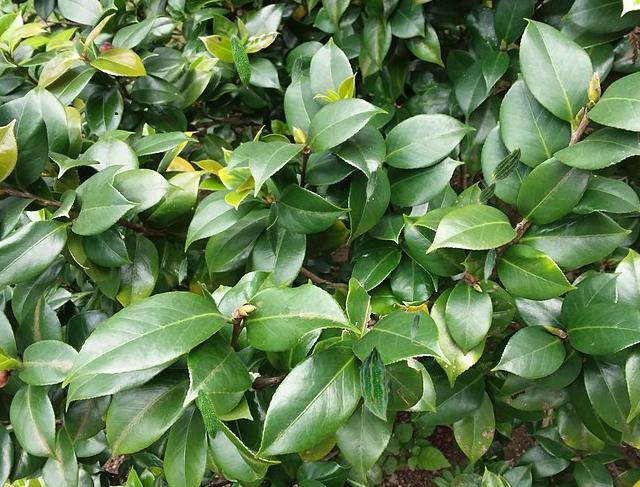ampalaya: (358, 343, 390, 421), (490, 146, 521, 184), (197, 386, 218, 441), (230, 34, 251, 89), (265, 195, 281, 256), (483, 245, 496, 283), (476, 182, 496, 205), (366, 167, 377, 202), (291, 54, 302, 89), (410, 311, 420, 342), (178, 256, 187, 285)
